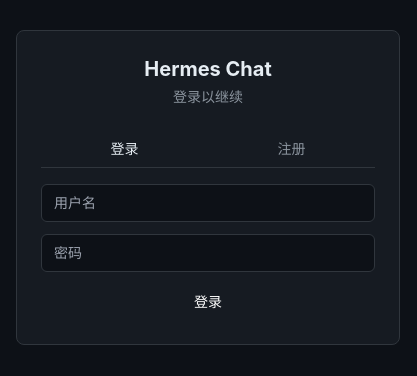
LoginPage › 登录失败显示错误信息
Type "alice" into the field with placeholder "用户名". click: (208, 202)
box: left=41, top=184, right=375, bottom=222
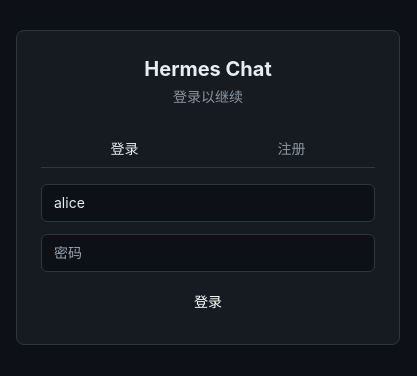
Type "wrong" into the password field with placeholder "密码". click: (208, 252)
box: left=41, top=234, right=375, bottom=272
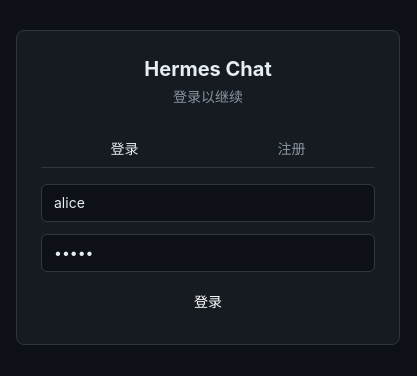
Click the 2nd button "登录". click: (208, 302)
box: left=41, top=284, right=375, bottom=320
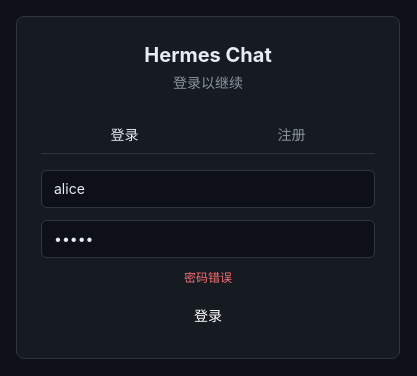
Expected: the text "密码错误" is shown, left=184, top=270, right=232, bottom=284
